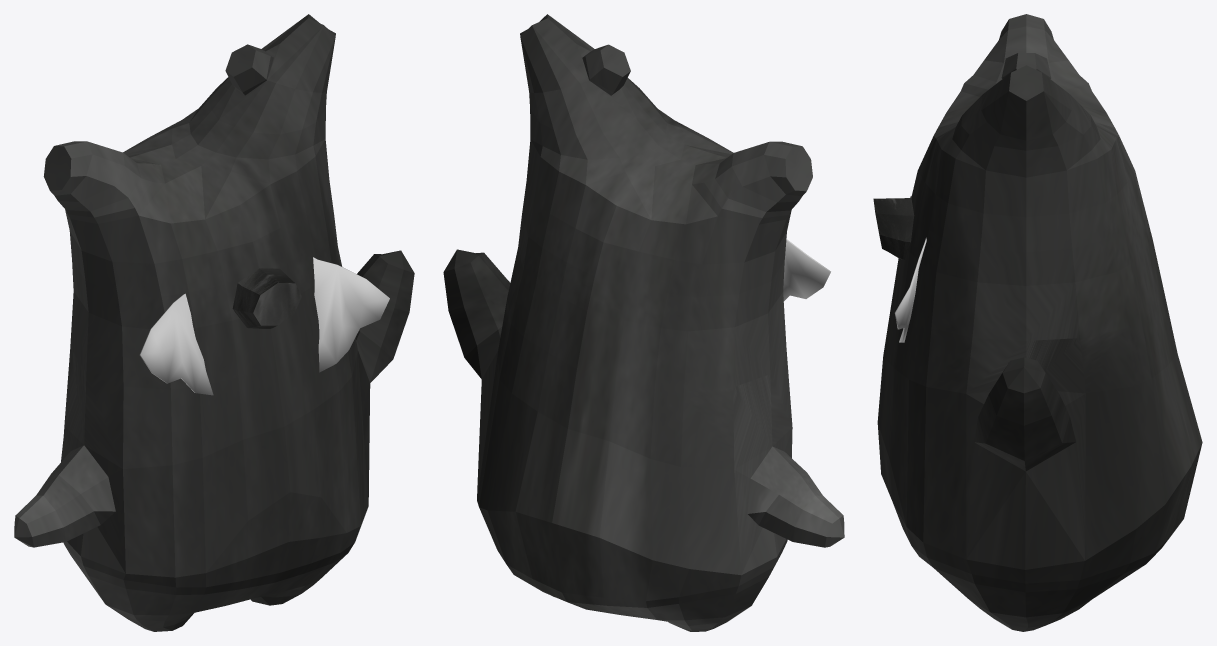
File: frame_0004.obj
3 renders of one model, left to right at view 1: azimuth 30°, elevation 25°; view 2: azimuth 150°, elevation 25°; view 3: azimuth 270°, elevation 25°, orthographic.
Parts seen in each view (by area): view 1: korok, leaf, nose; view 2: korok, leaf; view 3: korok, nose, leaf.
Part boxes in pixels (x1,y1,x2,y2): korok: (14, 14, 414, 631); leaf: (140, 257, 389, 395); nose: (232, 268, 301, 328); korok: (443, 14, 844, 631); leaf: (783, 239, 830, 301); korok: (877, 14, 1202, 631); nose: (873, 197, 914, 259); leaf: (894, 196, 926, 342).
Size of the model in its own units: 1.66 by 2.31 by 1.18.
